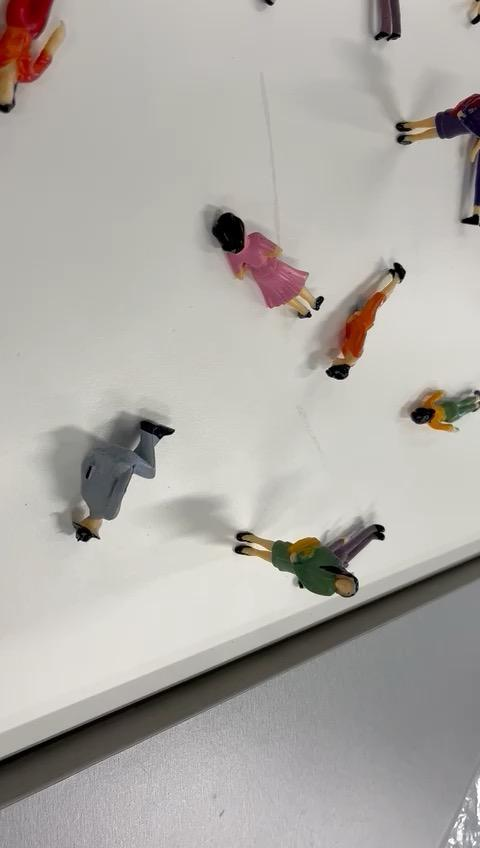human: (40, 368, 174, 569), (227, 486, 390, 609), (202, 203, 329, 344), (323, 245, 418, 398), (1, 0, 74, 134), (384, 87, 480, 181), (384, 381, 480, 457)
